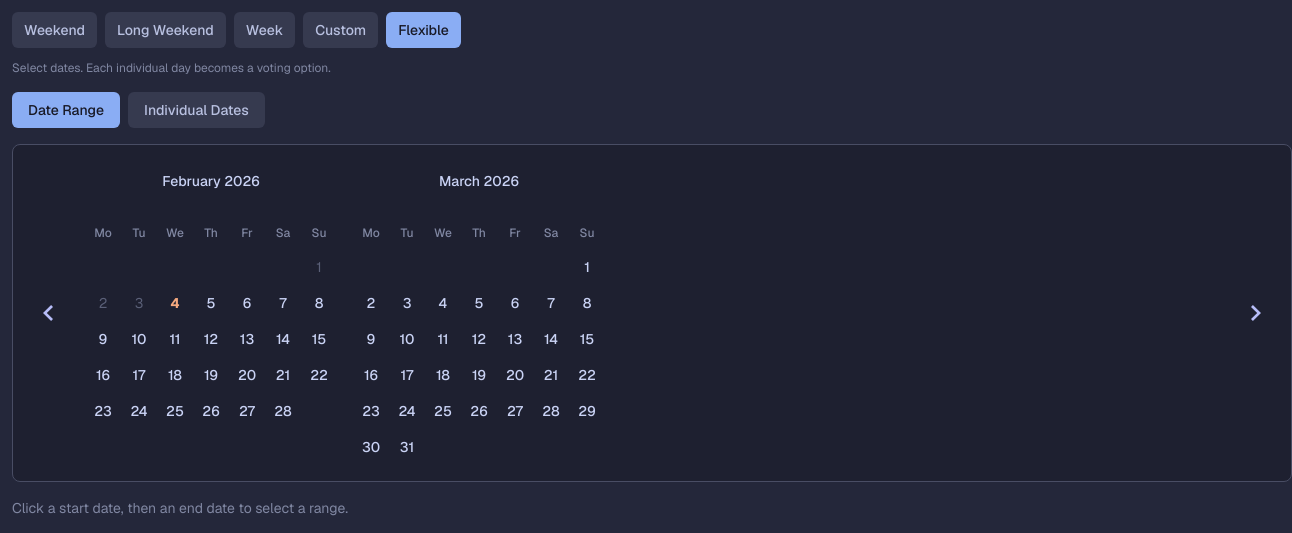
Test: CalendarPicker › empty state hints › shows pattern mode hint when no dates selected
Click the button "Week": click(265, 30) x1=234 y1=12 x2=295 y2=48
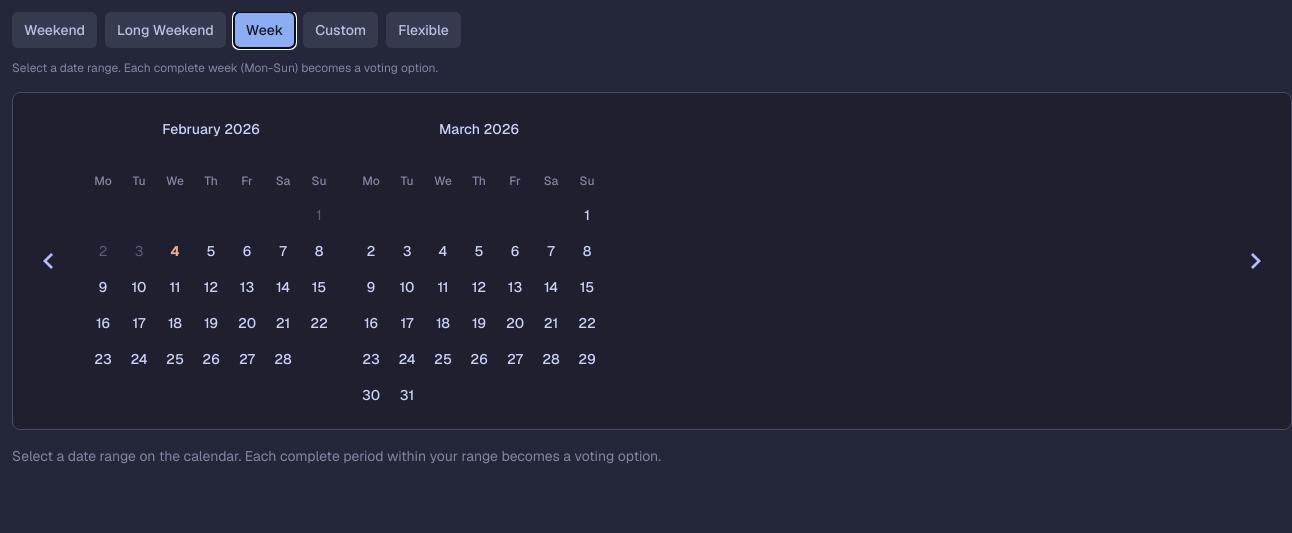
Check: the text "Select a date range on the calendar" is shown, box x1=12 y1=447 x2=661 y2=465
